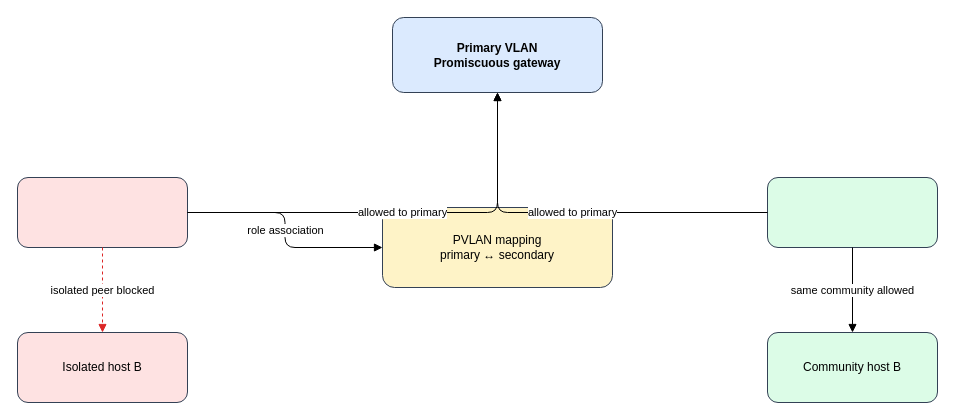
This 955x420 diagram has some shape labels left out. Here are the shapes that lost their labels. From the top down, the box of each, then its label:
(16, 176, 188, 248): Isolated host A
(766, 176, 938, 248): Community host A
